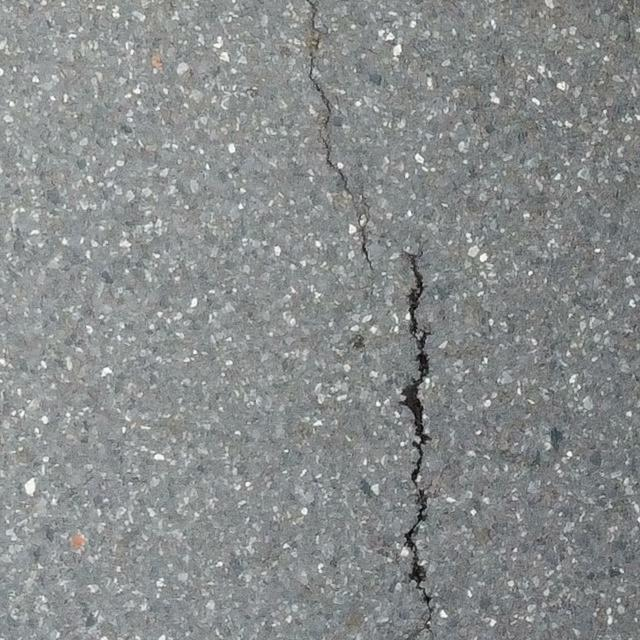LongitudinalCrack: (304, 1, 375, 267), (397, 251, 435, 638)
